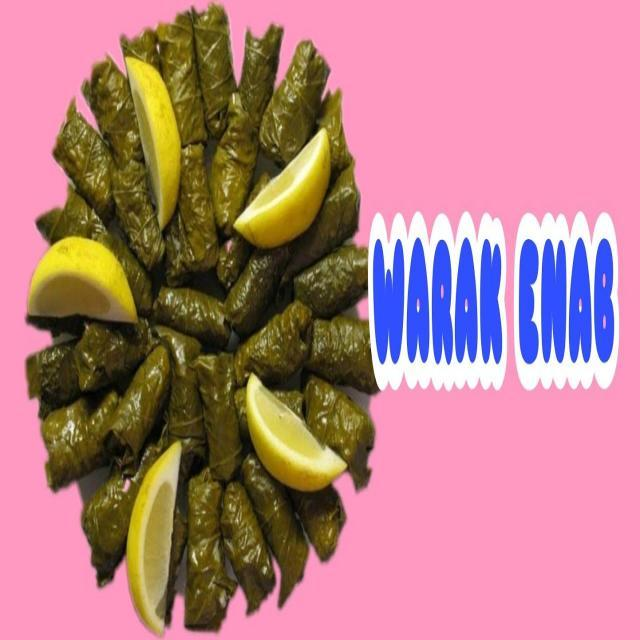wara enab: (16, 6, 374, 620)
